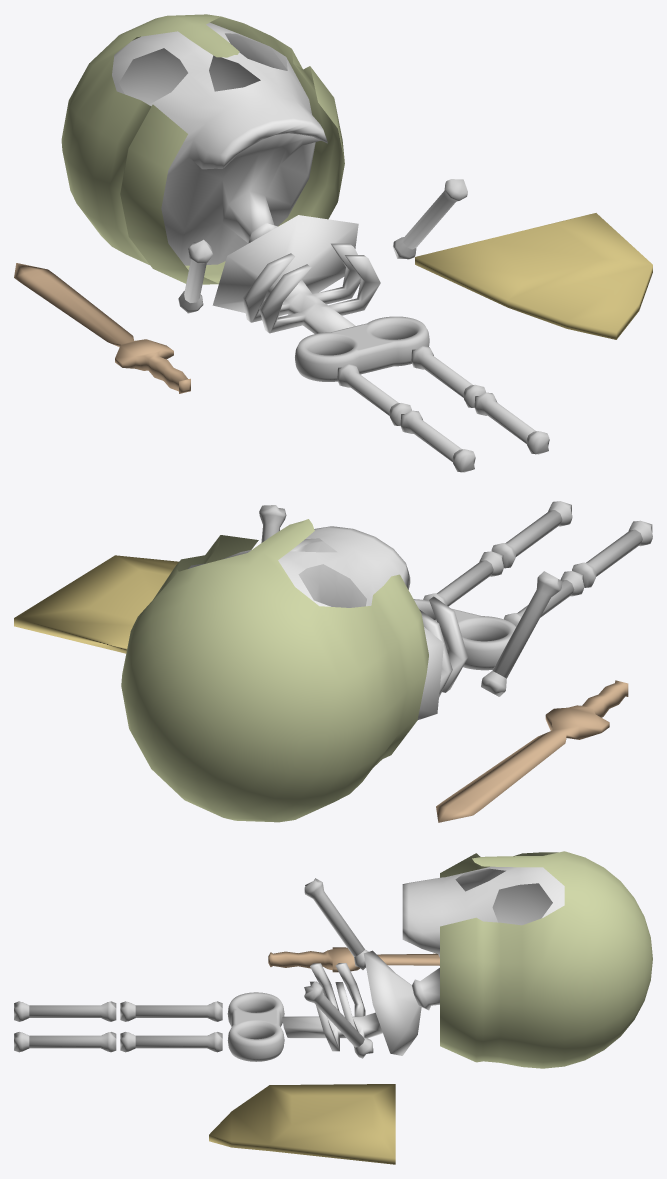
The model's file is osso_caveira.fbx.
The picture shows the model from 3 angles, top to bottom: view 1: azimuth 30°, elevation 25°; view 2: azimuth 150°, elevation 25°; view 3: azimuth 270°, elevation 25°; orthographic projection. The views are drawn at different scales.
Parts seen in each view (by area): view 1: Hip; view 2: Hip; view 3: Hip.
Boxes of the visible parts, x1,y1,x2,y2 form: Hip: (14,14,652,472); Hip: (14,501,652,822); Hip: (14,851,652,1164).
Bounding box in the file's own units: 6557 × 2914 × 8437.
